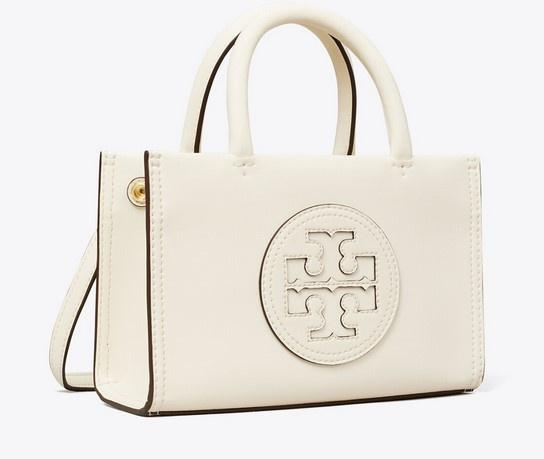TORY-BURCH: (259, 204, 400, 366)
